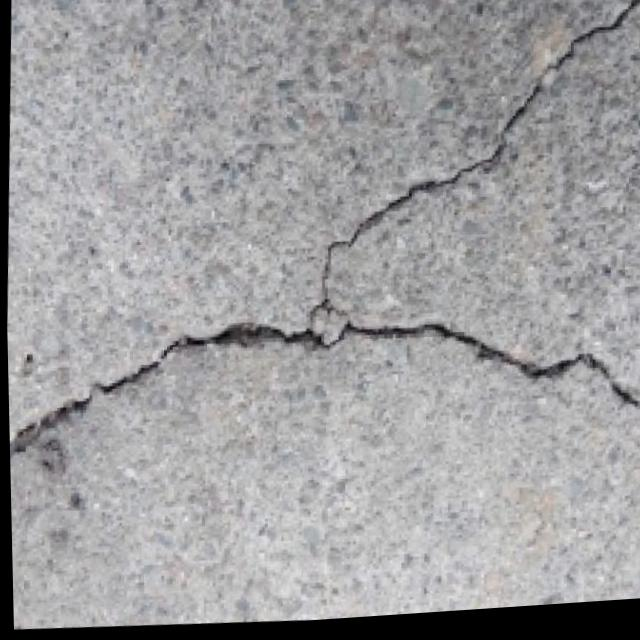Crack: (5, 259, 640, 499), (281, 0, 640, 344)
